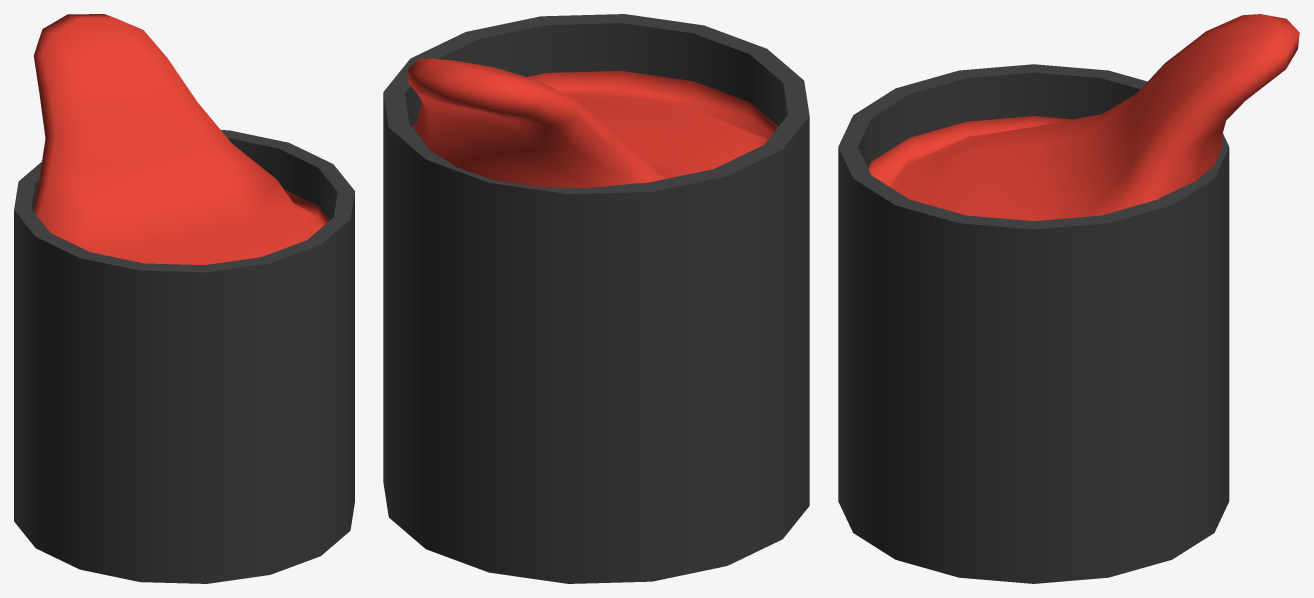
The model's file is paint_bucket.fbx.
The picture shows the model from 3 angles, left to right: view 1: azimuth 30°, elevation 25°; view 2: azimuth 150°, elevation 25°; view 3: azimuth 270°, elevation 25°; orthographic projection. The views are drawn at different scales.
Visible parts, largest first — view 1: Bucket_Joined; view 2: Bucket_Joined; view 3: Bucket_Joined.
Part boxes in pixels (box(x1,y1,x2,y2)): Bucket_Joined: box(14, 14, 354, 583); Bucket_Joined: box(383, 14, 809, 583); Bucket_Joined: box(838, 14, 1299, 583).
Size of the model in its own units: 100 by 134 by 118.
